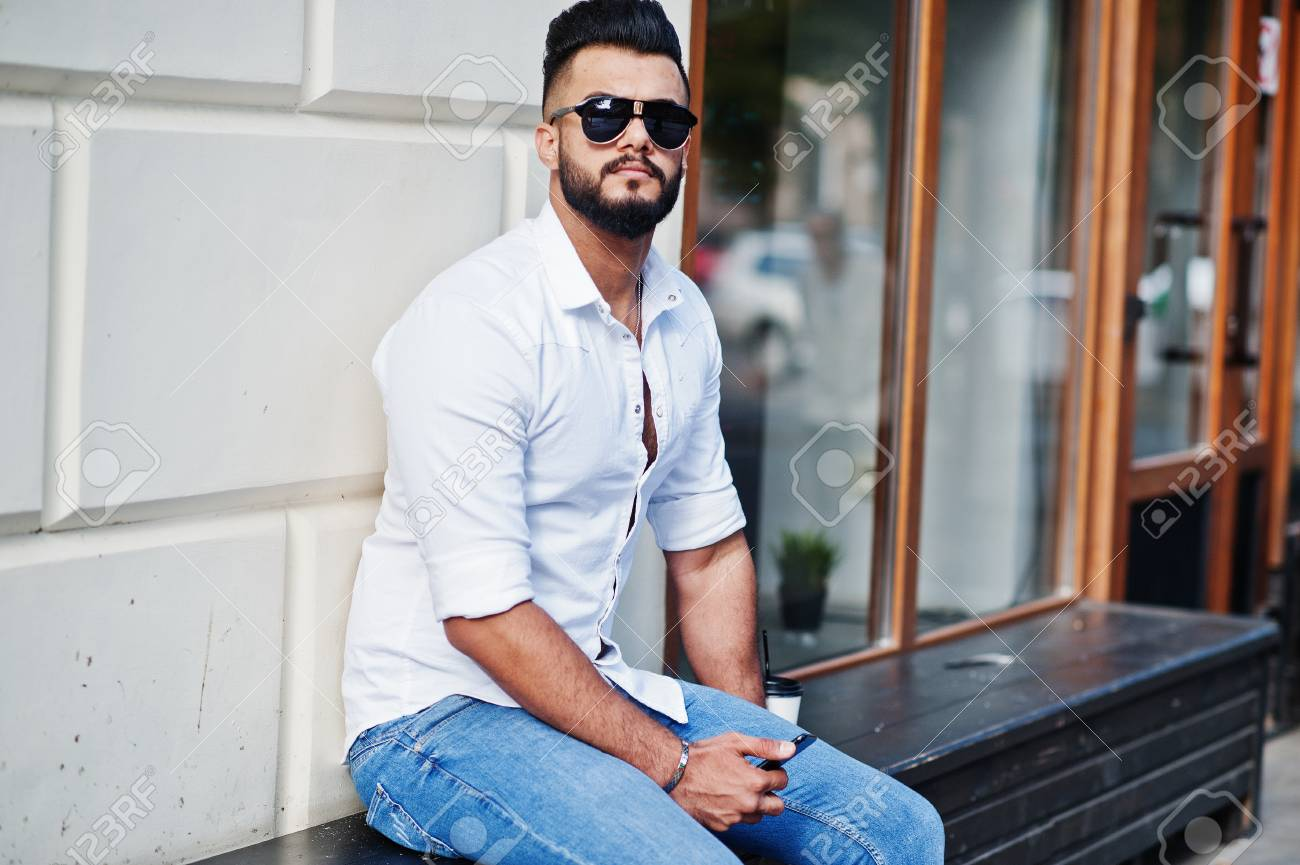sunglasses: (340, 649, 955, 859), (551, 93, 697, 152)
